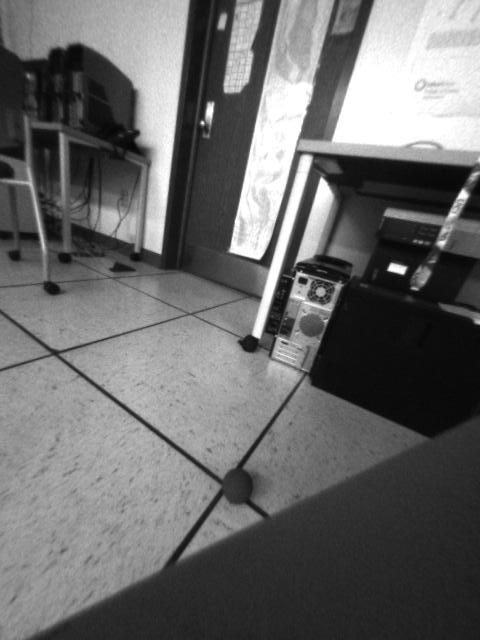dogtoy: (213, 459, 263, 511)
